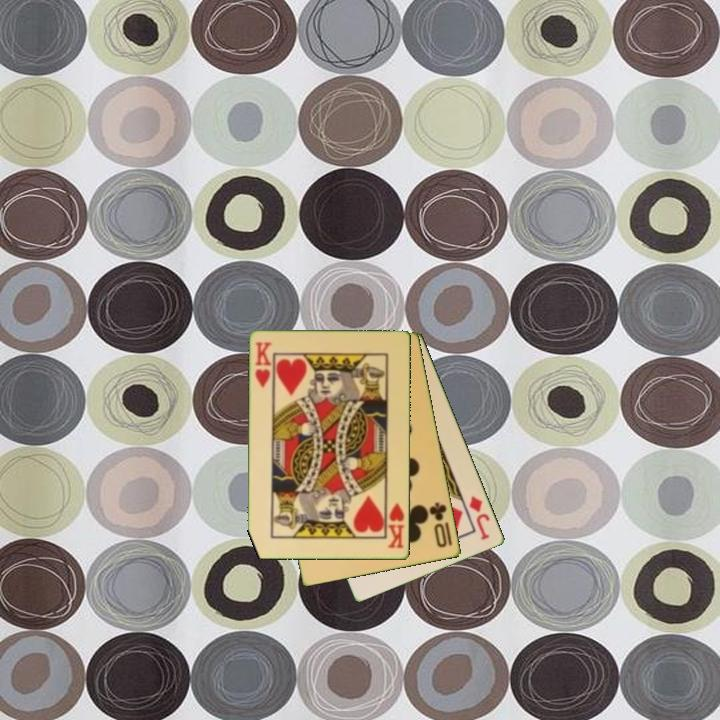10c: (426, 499, 450, 551)
Jd: (466, 493, 493, 543)
Kh: (383, 497, 407, 551), (252, 339, 275, 391)
